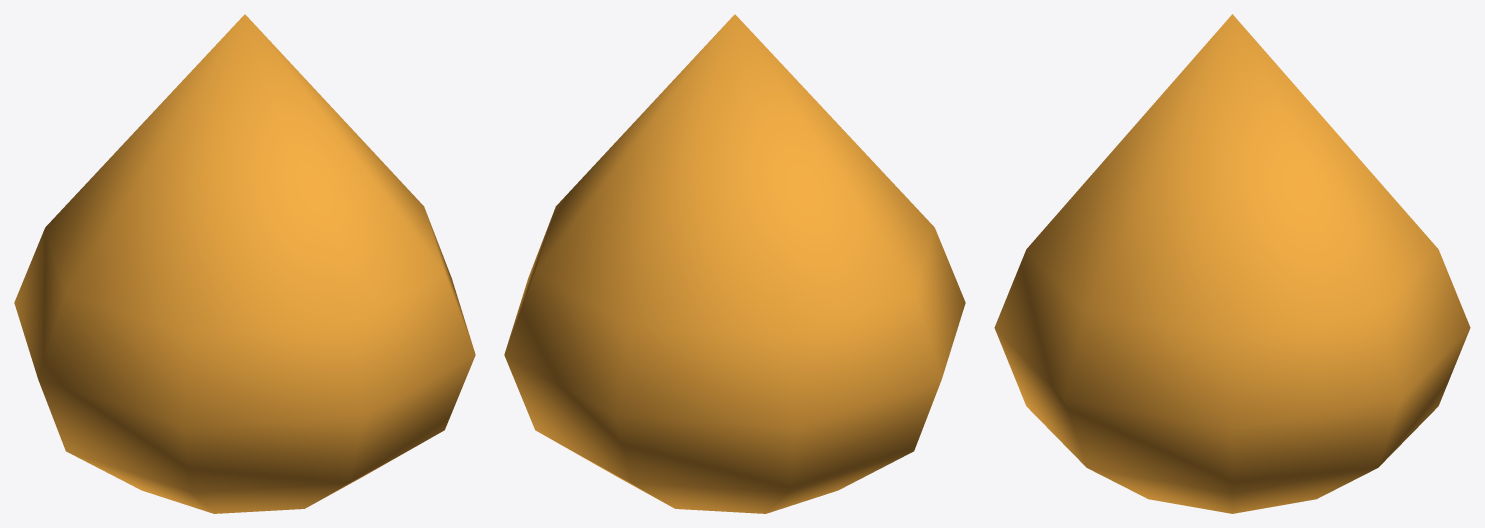
The model's file is oil_drop.glb.
3 views of the same model, side by side, from view 1: azimuth 30°, elevation 25°; view 2: azimuth 150°, elevation 25°; view 3: azimuth 270°, elevation 25° (orthographic).
Parts seen in each view (by area): view 1: oil_drop; view 2: oil_drop; view 3: oil_drop.
Part boxes in pixels (x1=…): oil_drop: x1=14, y1=14, x2=475, y2=513; oil_drop: x1=504, y1=14, x2=965, y2=513; oil_drop: x1=994, y1=14, x2=1470, y2=513.
Size of the model in its own units: 0.275 by 0.3 by 0.275.
